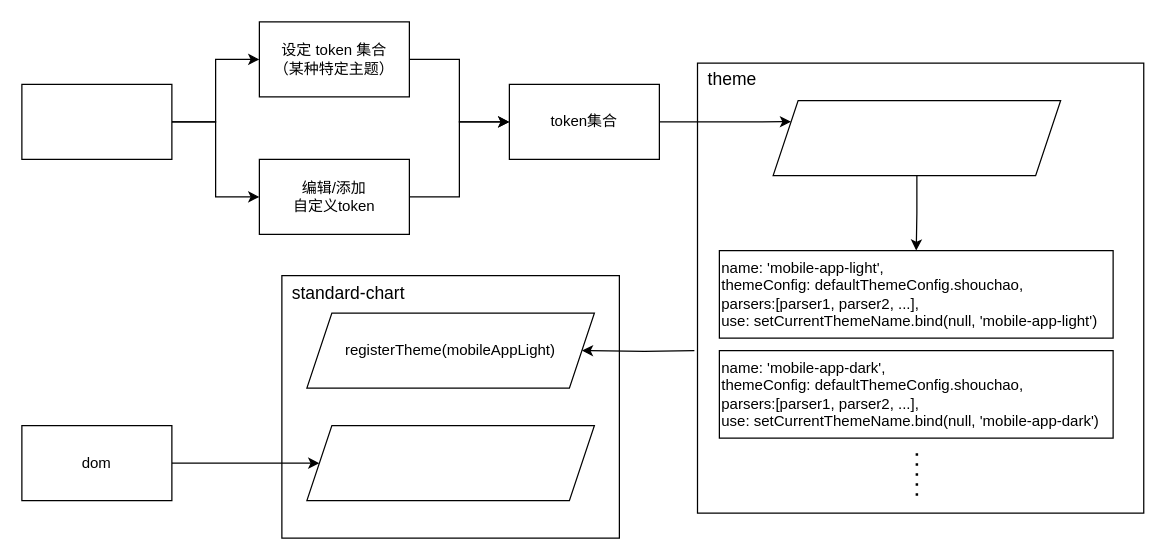
Image size: 1166x560. Some labels were removed from this diagram. The shapes that lost their labels are listed below. From the top down, each one's centre as x and y in pixels, then its label:
At pixel 96 121: "Standard Chart".
At pixel 916 137: "setThemeConfigWithToken (themename, themeConfig, tokens)".
At pixel 450 462: "init(dom, mobileAppLight.name )".
